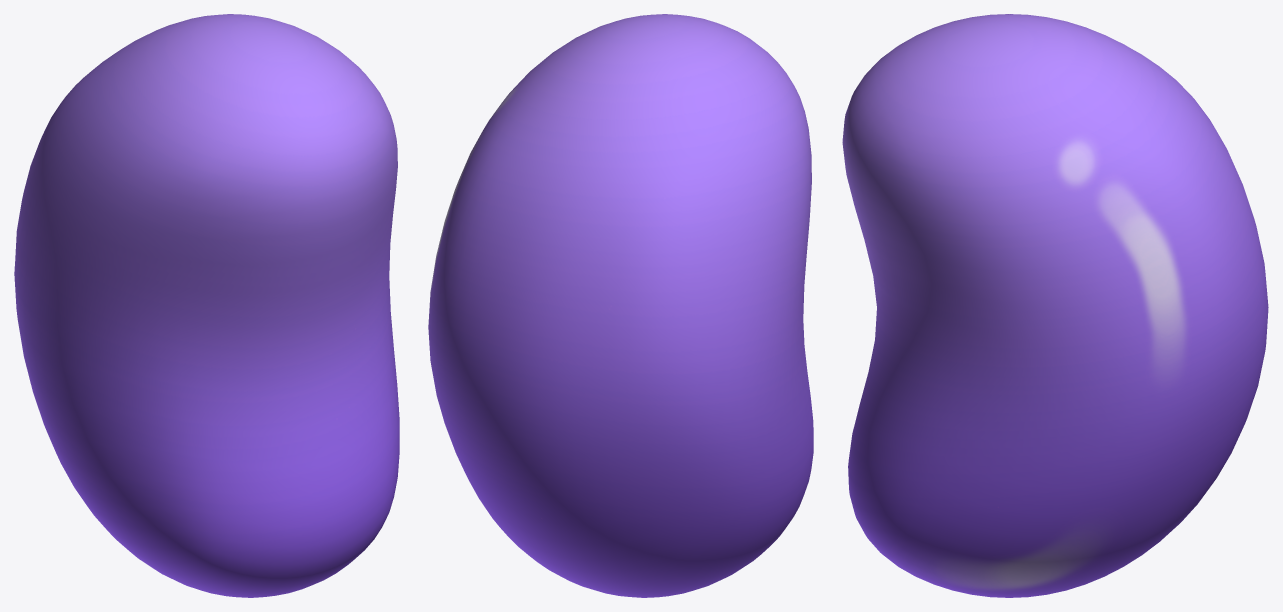
Rendered from JellyBean_purple.fbx.
The picture shows the model from 3 angles, left to right: view 1: azimuth 30°, elevation 25°; view 2: azimuth 150°, elevation 25°; view 3: azimuth 270°, elevation 25°; orthographic projection.
Visible parts, largest first — view 1: JellyBean; view 2: JellyBean; view 3: JellyBean.
Part boxes in pixels (bbox=[...]): JellyBean: bbox=[14, 14, 399, 597]; JellyBean: bbox=[428, 14, 813, 597]; JellyBean: bbox=[842, 14, 1268, 597].
Bounding box in the file's own units: 56.01 × 91.46 × 63.72.
Materials: 1 (1 with a texture image).
